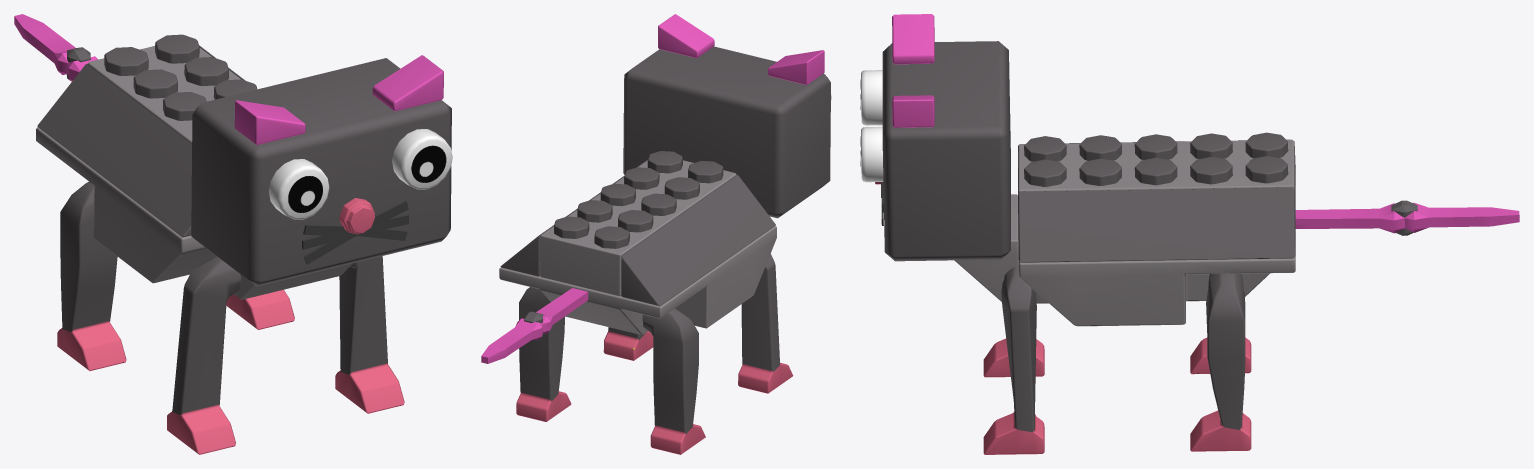
Rendered from kedi_puzzle.fbx.
The picture shows the model from 3 angles, left to right: view 1: azimuth 30°, elevation 25°; view 2: azimuth 150°, elevation 25°; view 3: azimuth 270°, elevation 25°; orthographic projection. The views are drawn at different scales.
Parts seen in each view (by area): view 1: cat_8, cat_4, cat_3, cat_1, cat_6, cat_2, cat_7, cat_5; view 2: cat_8, cat_2, cat_3, cat_1, cat_6, cat_4, cat_5, cat_7; view 3: cat_8, cat_3, cat_2, cat_1, cat_4, cat_5, cat_7, cat_6.
Part boxes in pixels (bbox=[...]): cat_8: bbox=[191, 55, 452, 286]; cat_4: bbox=[167, 256, 404, 454]; cat_3: bbox=[37, 45, 245, 237]; cat_1: bbox=[36, 127, 352, 299]; cat_6: bbox=[57, 181, 126, 370]; cat_2: bbox=[87, 34, 257, 143]; cat_7: bbox=[14, 14, 97, 81]; cat_5: bbox=[226, 289, 294, 329]; cat_8: bbox=[623, 14, 831, 218]; cat_2: bbox=[540, 151, 736, 296]; cat_3: bbox=[500, 159, 775, 306]; cat_1: bbox=[499, 226, 776, 334]; cat_6: bbox=[642, 308, 705, 454]; cat_4: bbox=[603, 254, 793, 393]; cat_5: bbox=[516, 287, 571, 421]; cat_7: bbox=[481, 288, 588, 363]; cat_8: bbox=[860, 14, 1010, 261]; cat_3: bbox=[1018, 139, 1295, 262]; cat_2: bbox=[1018, 132, 1295, 231]; cat_1: bbox=[954, 194, 1295, 326]; cat_4: bbox=[983, 266, 1044, 454]; cat_5: bbox=[1190, 273, 1251, 451]; cat_7: bbox=[1295, 200, 1519, 235]; cat_6: bbox=[1190, 297, 1251, 374].
Size of the model in its own units: 1.34 by 2.29 by 3.89.
